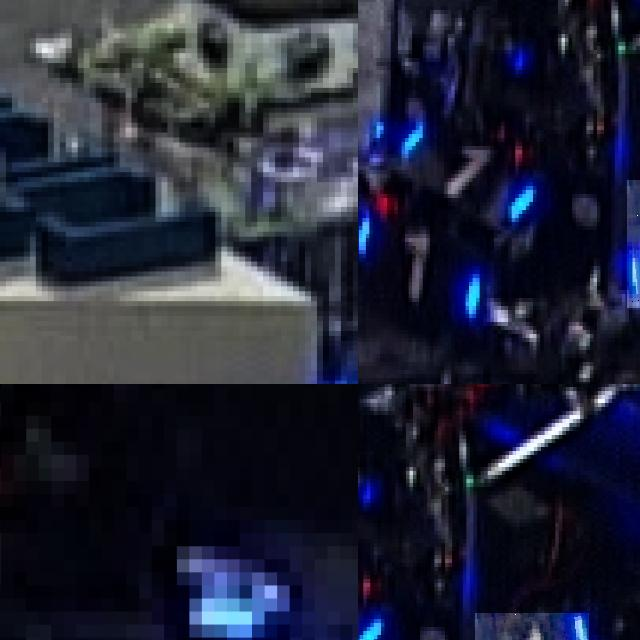B1: (392, 100, 538, 212), (358, 198, 483, 318), (475, 613, 589, 640)
